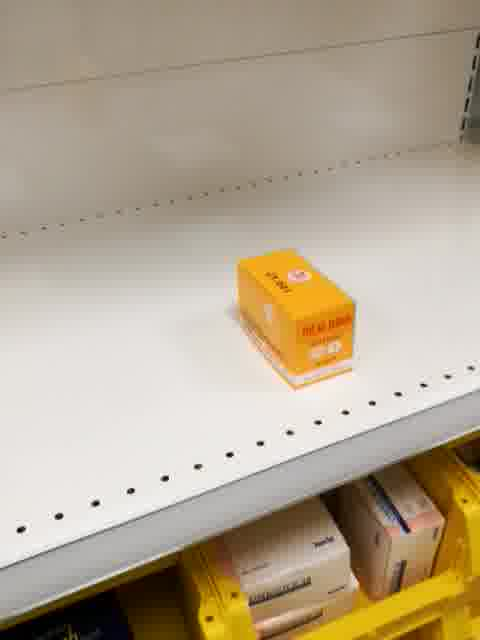jasminetea: (234, 249, 359, 394)
